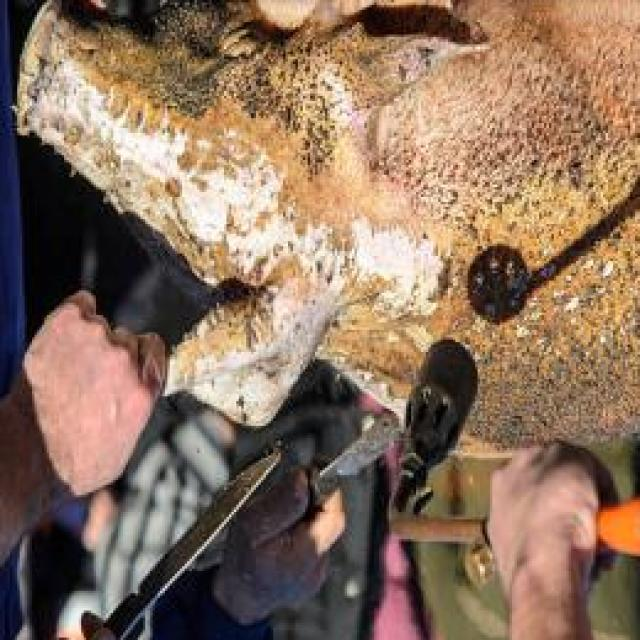knife: (111, 446, 286, 640)
